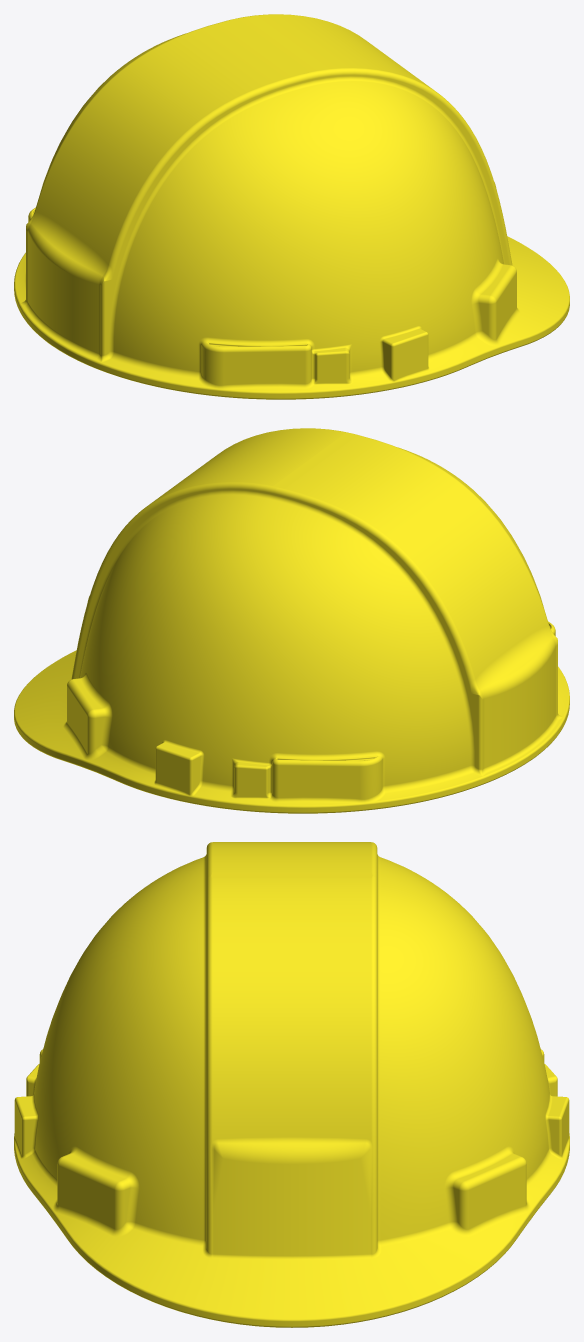
The model's file is construction helmet.fbx.
3 renders of one model, top to bottom at view 1: azimuth 30°, elevation 25°; view 2: azimuth 150°, elevation 25°; view 3: azimuth 270°, elevation 25°, orthographic. The views are drawn at different scales.
Parts seen in each view (by area): view 1: Body_1; view 2: Body_1; view 3: Body_1.
Boxes of the visible parts, box(x1,y1,x2,y2) form: Body_1: box(14, 14, 569, 399); Body_1: box(14, 428, 569, 813); Body_1: box(14, 842, 569, 1327).
Bounding box in the file's own units: 0.1259 × 0.1128 × 0.0691.
